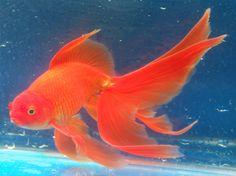goldfish: (5, 47, 178, 154)
